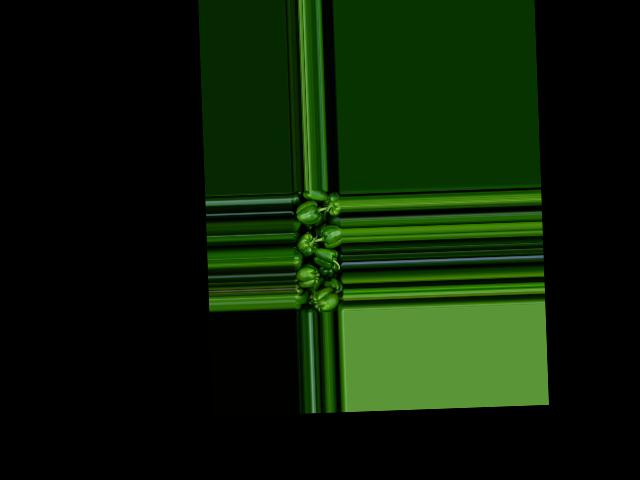bell_pepper: (291, 190, 343, 313)
